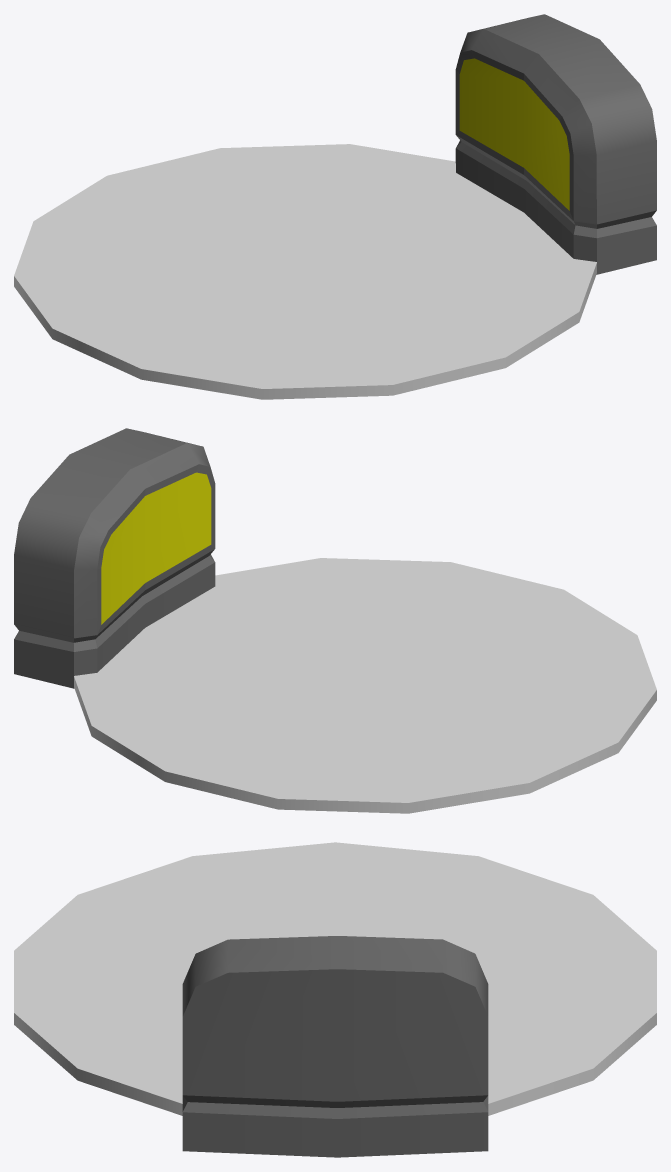
The model's file is Bar_Charger_2.fbx.
3 views of the same model, one above another, from view 1: azimuth 30°, elevation 25°; view 2: azimuth 150°, elevation 25°; view 3: azimuth 270°, elevation 25° (orthographic). The views are drawn at different scales.
Parts seen in each view (by area): view 1: Bar_Charger_2; view 2: Bar_Charger_2; view 3: Bar_Charger_2.
Part boxes in pixels (x1,y1,x2,y2): Bar_Charger_2: [14, 14, 656, 399]; Bar_Charger_2: [14, 428, 656, 813]; Bar_Charger_2: [14, 842, 656, 1157].
Bounding box in the file's own units: 145 × 42.22 × 131.
